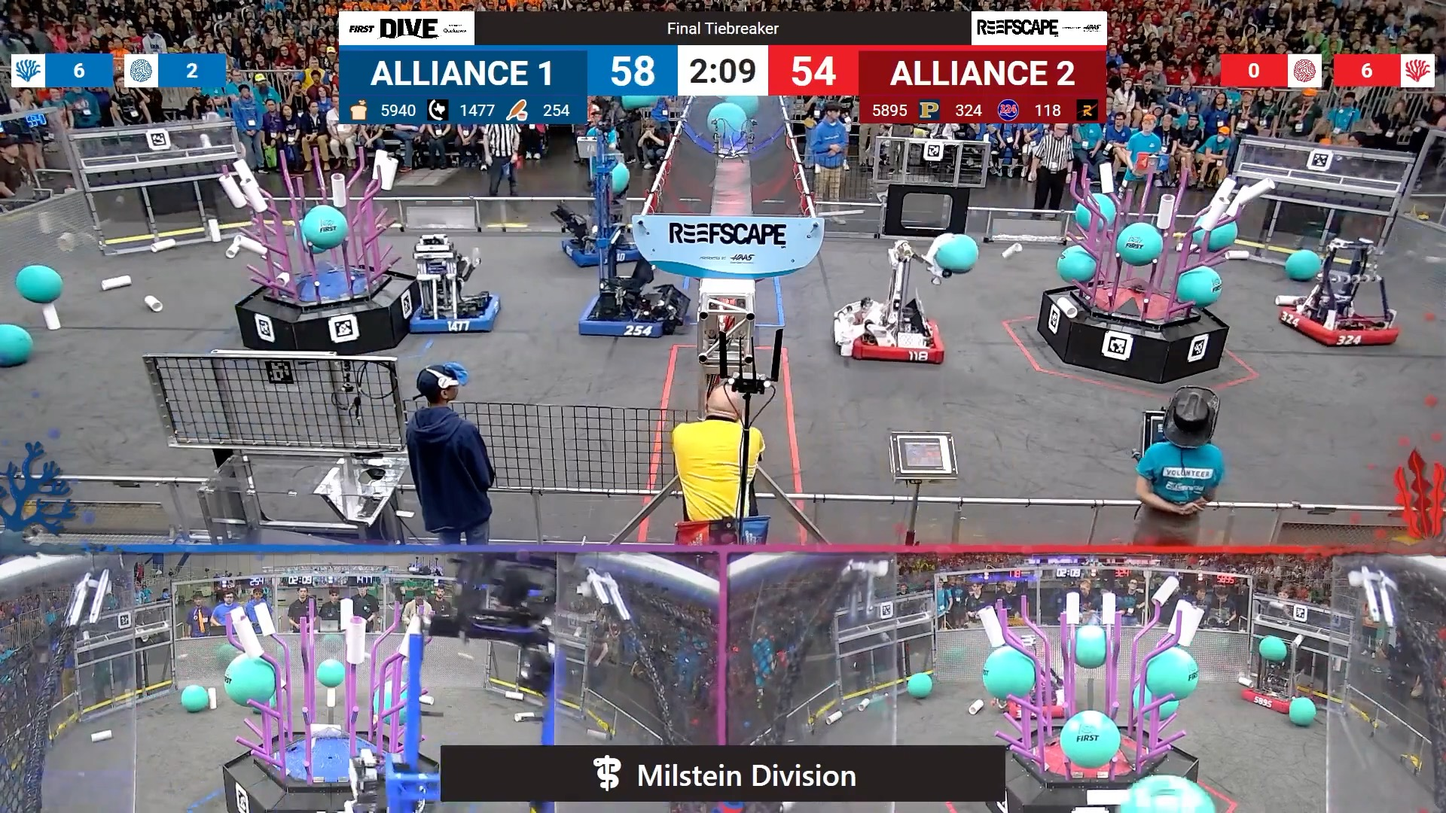bumpers: (1273, 297, 1402, 354), (579, 283, 691, 342), (837, 315, 948, 374), (403, 289, 509, 340), (556, 236, 646, 271), (1234, 684, 1311, 717)
